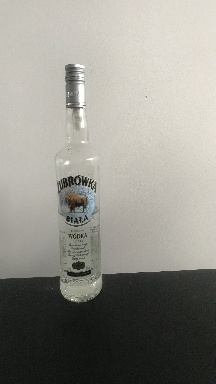butelka: (52, 60, 103, 306)
